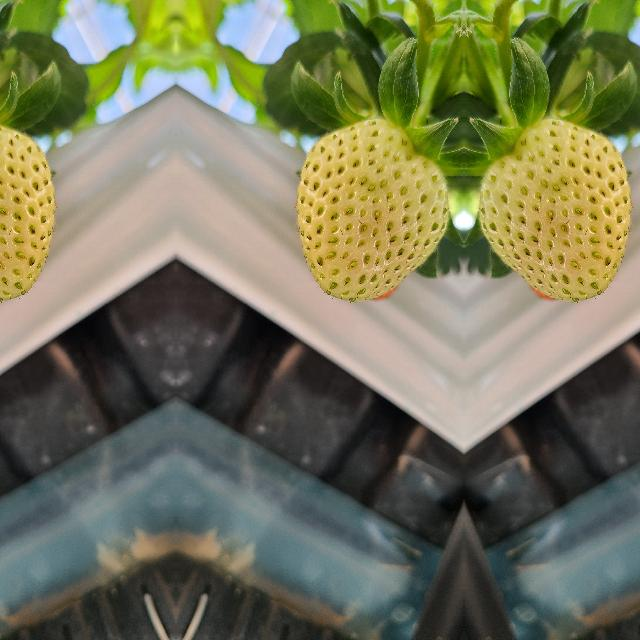Health_25: (293, 118, 449, 302), (477, 118, 633, 302), (0, 117, 57, 302)
